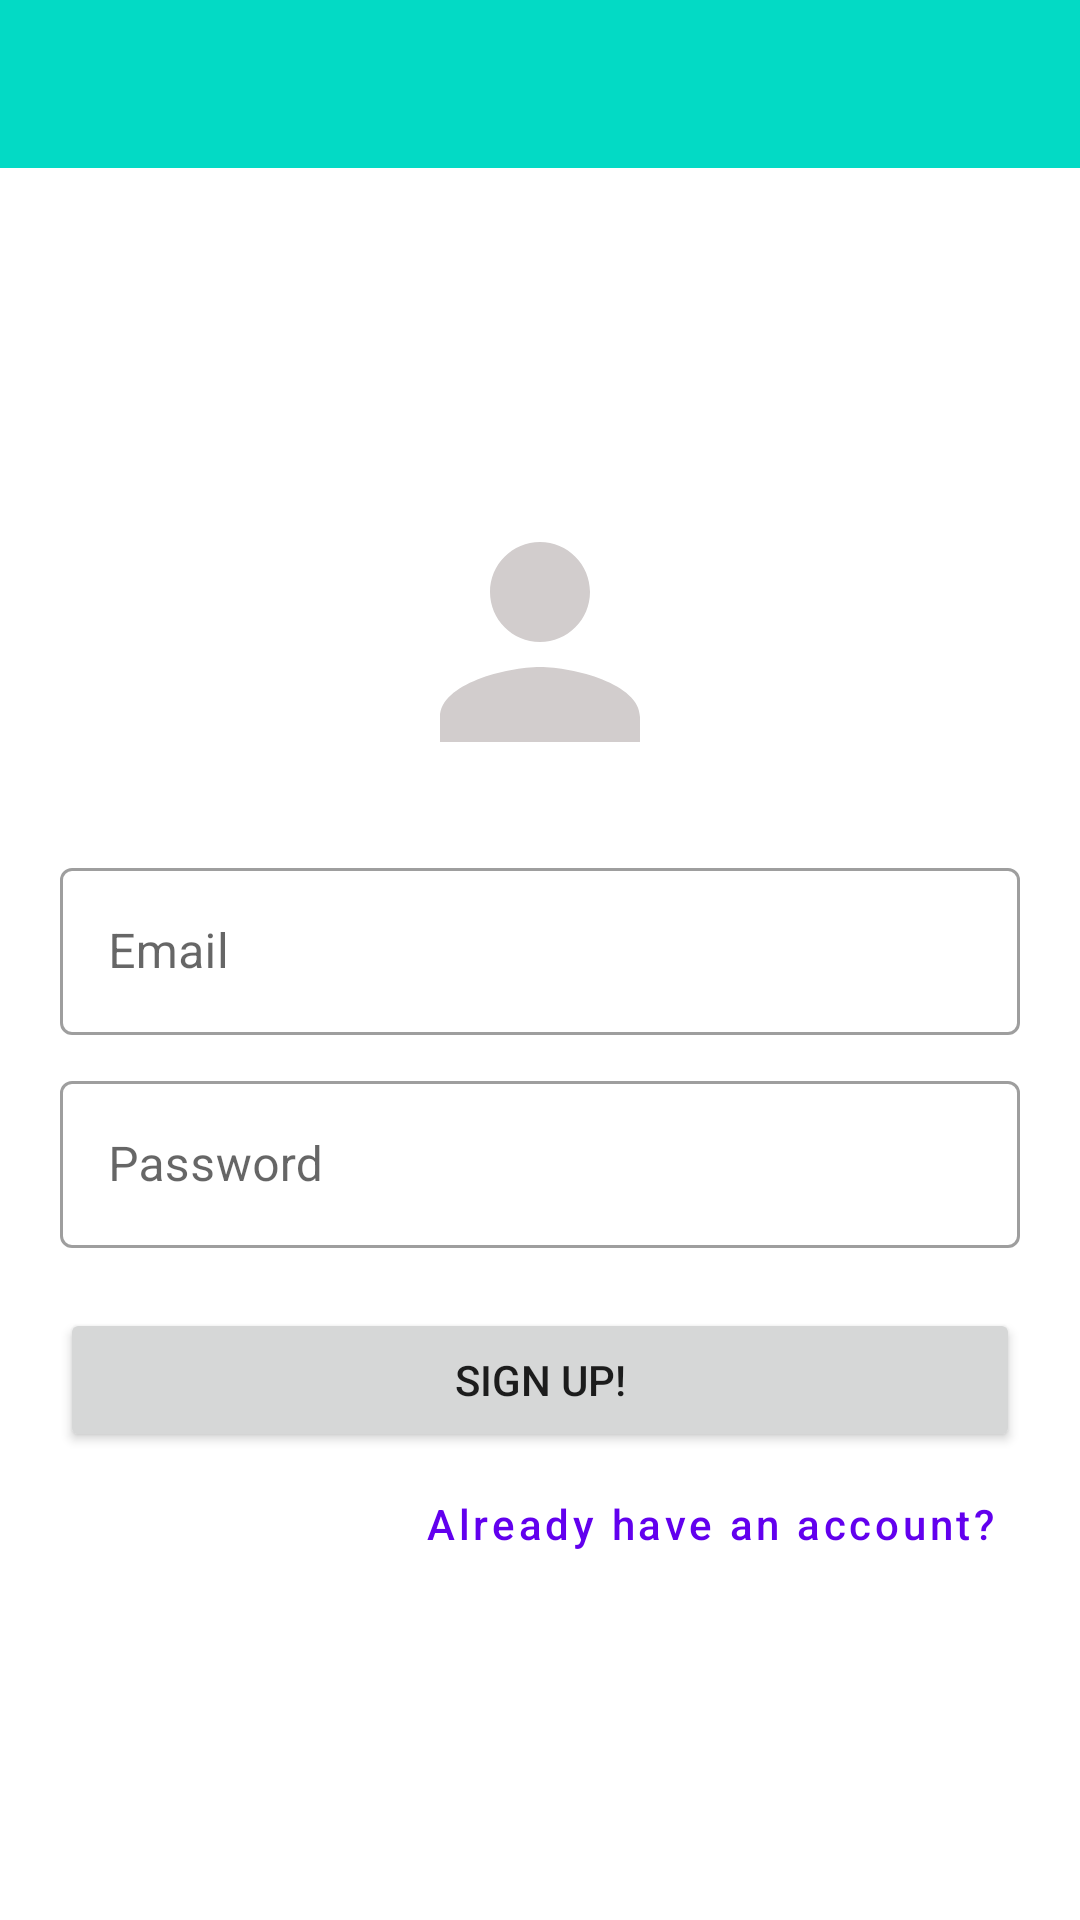

Point at icon controls on the screen. Image size 1080×1920, points as point (x, y).
person: point (540, 642)
